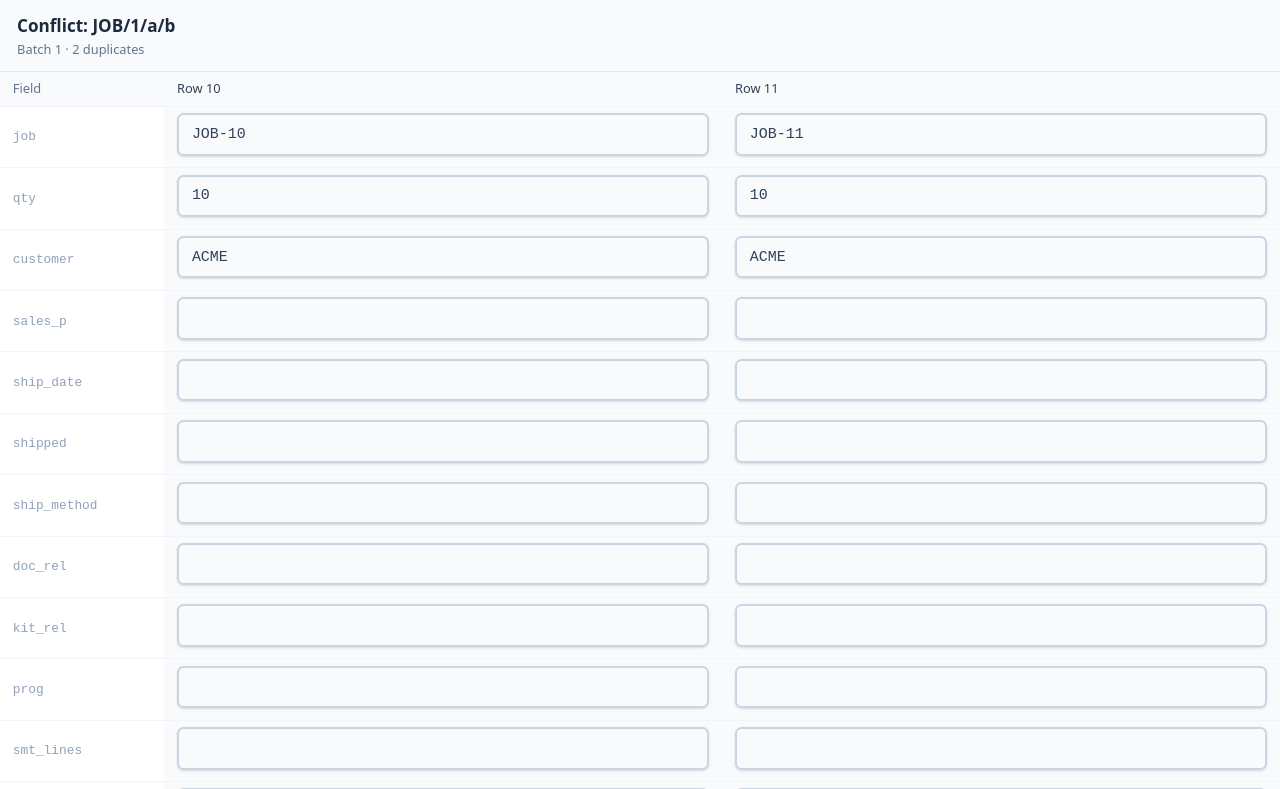
Test case: ConflictRowComparison — §3.3: status line text › shows "{n} edit{s} pending." after editing cells
The image size is (1280, 789).
Replace the text in the text box with test id "conflict-cell-10-raw_job" with "CHANGED" at (443, 134), box [177,113,709,156]
(page scrolled)
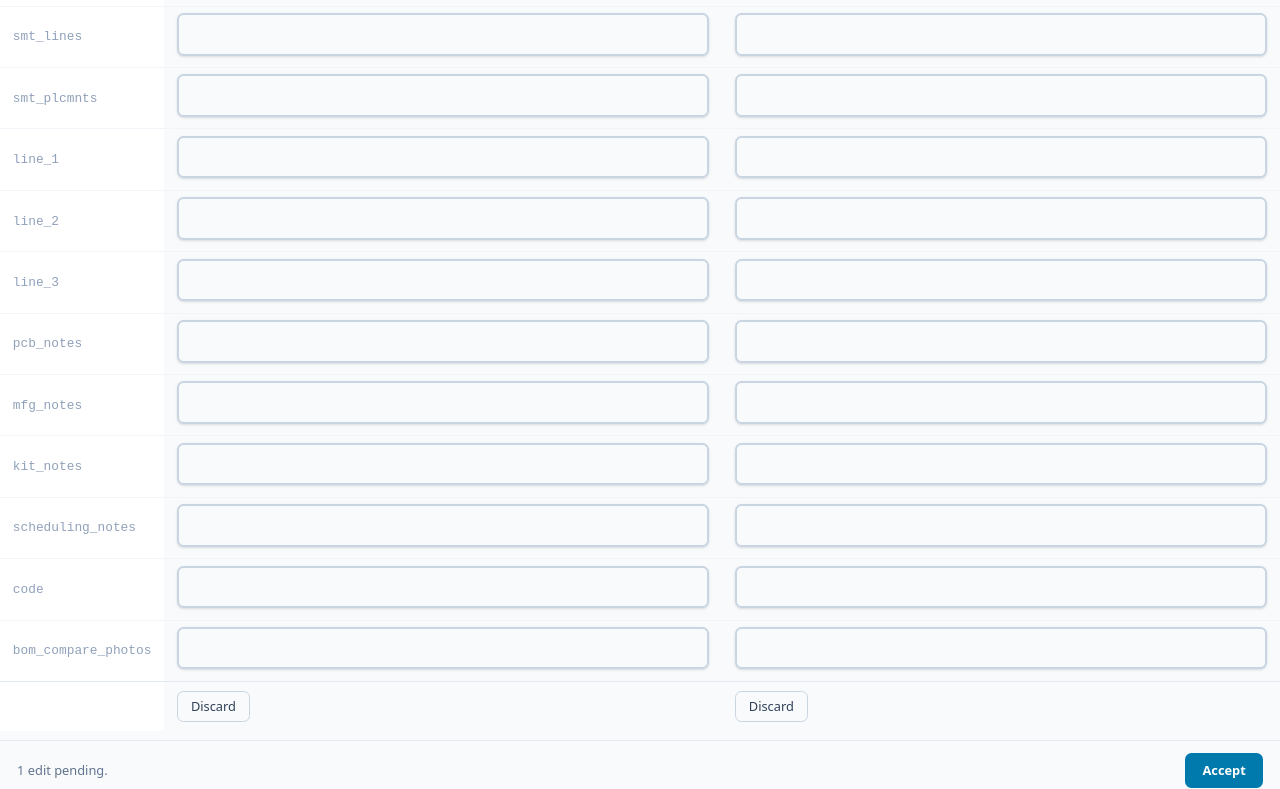
Result: the text with test id "conflict-status-line" reads "1 edit pending." at [17,761,108,779]
